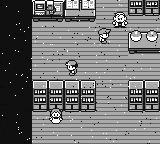leer: (65, 0, 95, 21), (33, 1, 64, 21)
main: (65, 61, 79, 76)
no-caminable: (0, 0, 32, 143), (33, 81, 95, 111), (129, 81, 159, 112), (129, 32, 159, 54), (129, 0, 159, 16)
npc: (112, 13, 128, 28), (49, 108, 63, 124), (97, 29, 111, 44)
poke-ball: (130, 30, 142, 42), (146, 30, 158, 42)
